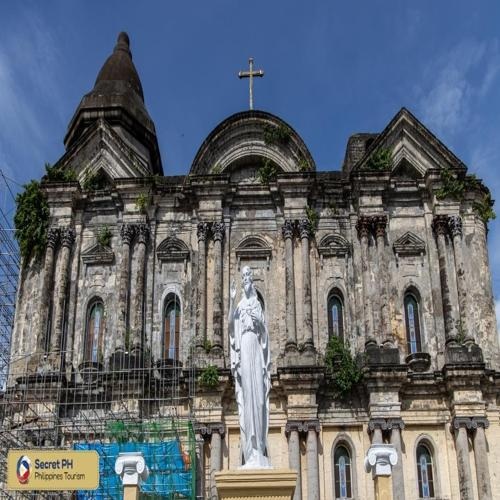Taal Basilica Church: (12, 26, 497, 489)
